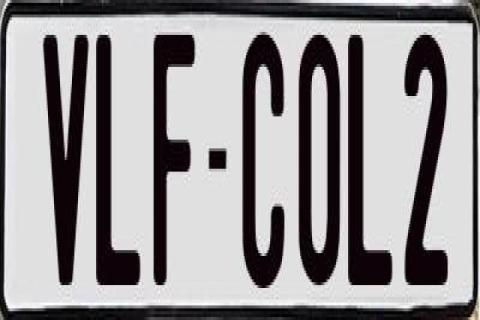0: (296, 27, 344, 280), (404, 35, 452, 288)
C: (242, 23, 284, 297)
F: (152, 29, 192, 282)
L: (92, 32, 144, 288), (346, 32, 392, 296)
V: (42, 29, 88, 297)
